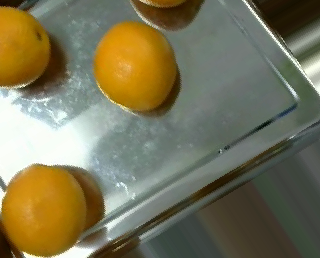Orange: (0, 162, 85, 256), (91, 20, 176, 113)
